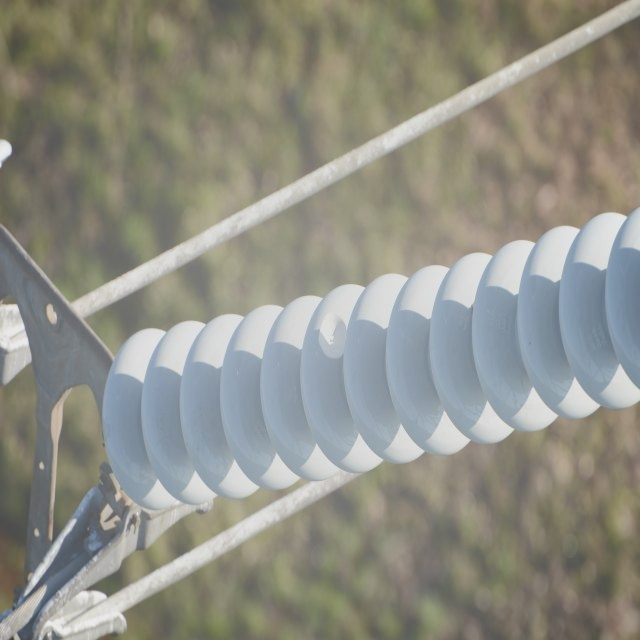broken: (317, 307, 348, 362)
insulator: (102, 205, 640, 512)
